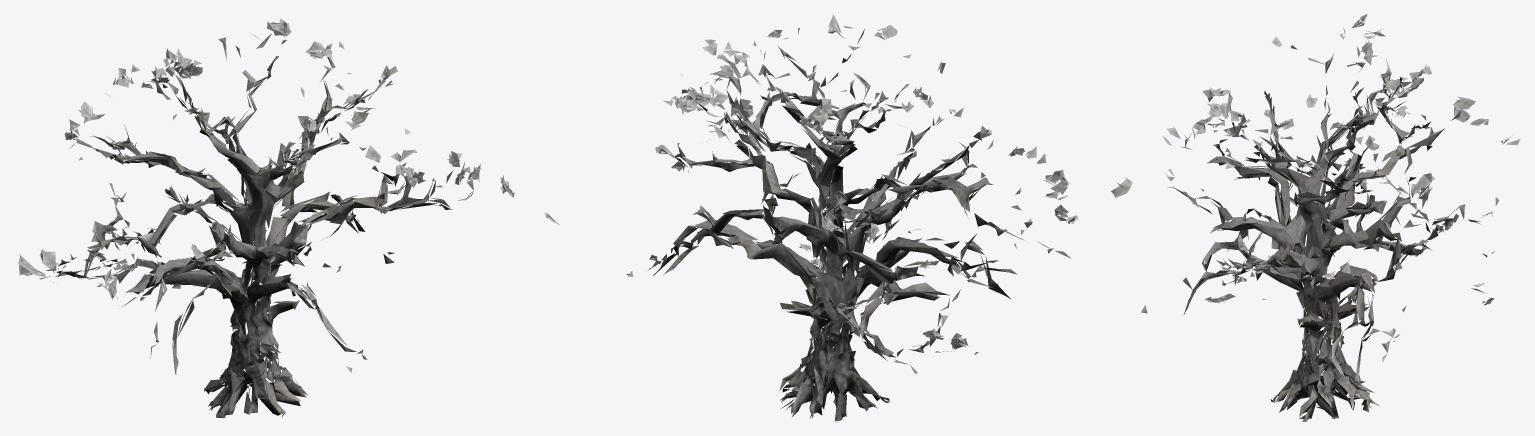
File: carvalho_aster_morta.glb
3 views of the same model, side by side, from view 1: azimuth 30°, elevation 25°; view 2: azimuth 150°, elevation 25°; view 3: azimuth 270°, elevation 25° (orthographic). The views are drawn at different scales.
Visible parts, largest first — view 1: geometry_0; view 2: geometry_0; view 3: geometry_0.
Part boxes in pixels (x1,y1,x2,y2): geometry_0: [18, 19, 514, 418]; geometry_0: [544, 14, 1078, 421]; geometry_0: [1111, 14, 1520, 421].
Size of the model in its own units: 0.9886 by 0.8185 by 0.8838.
1 material, 1 textured.
